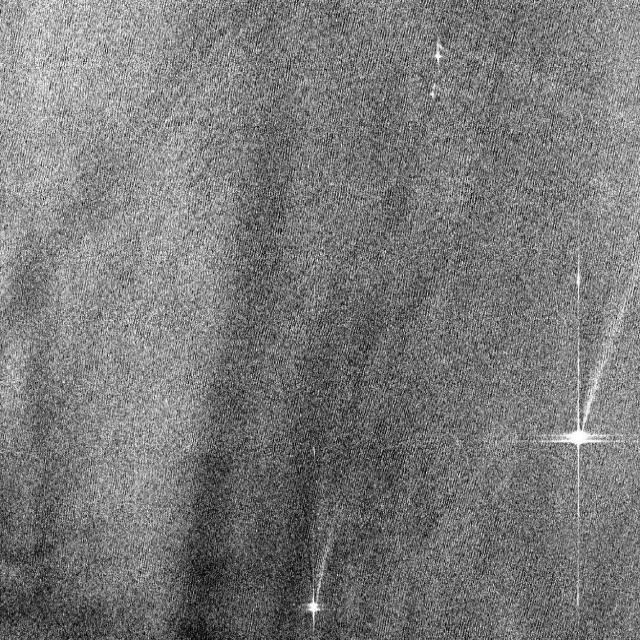look-alike: (156, 428, 248, 636), (2, 481, 120, 636)
ship: (529, 284, 616, 557), (298, 583, 330, 633), (427, 24, 448, 89)
